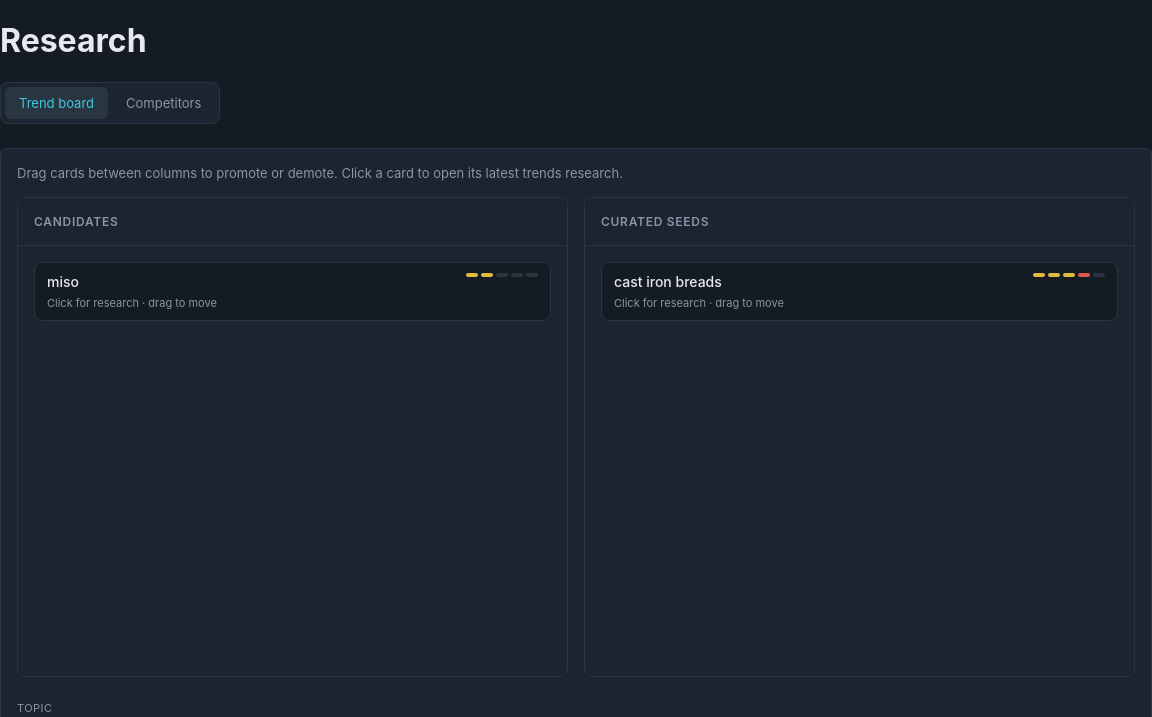
Scenario: Research › shows a not-implemented toast when Research is clicked on a curated topic
Click the button "cast iron breads Click for research · drag to move" at coordinates (668, 281), box [601,262,1118,321]
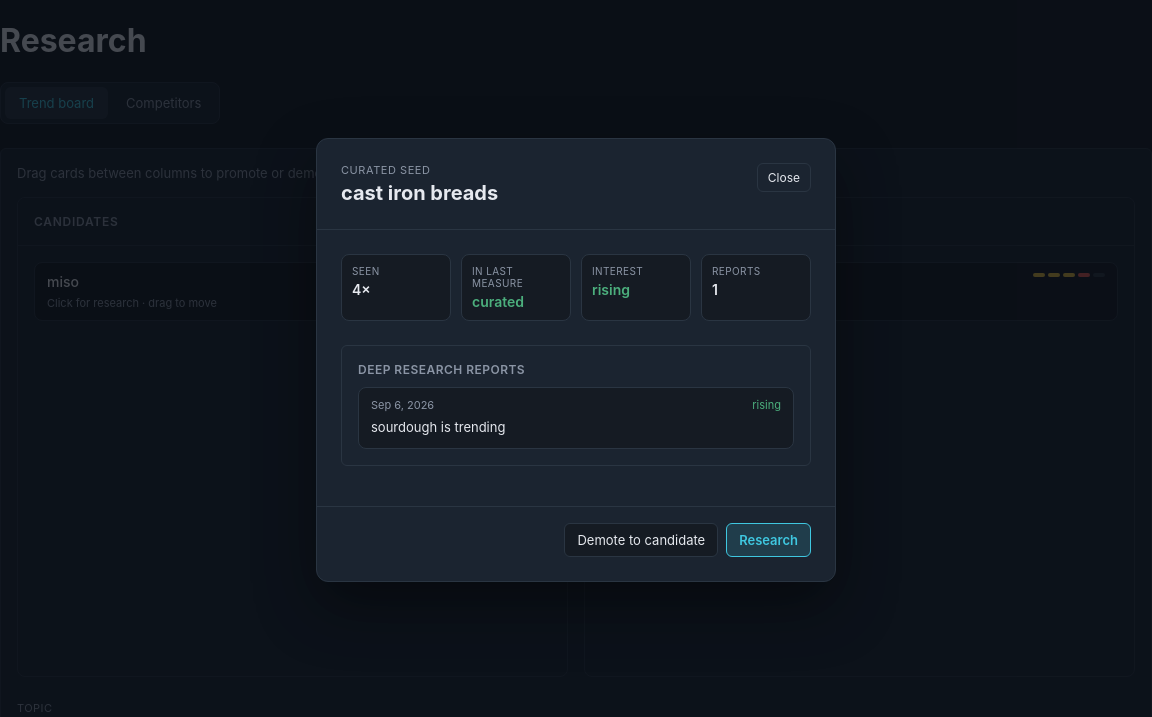
Click the button "Research" at coordinates (769, 540), box [726,523,811,557]
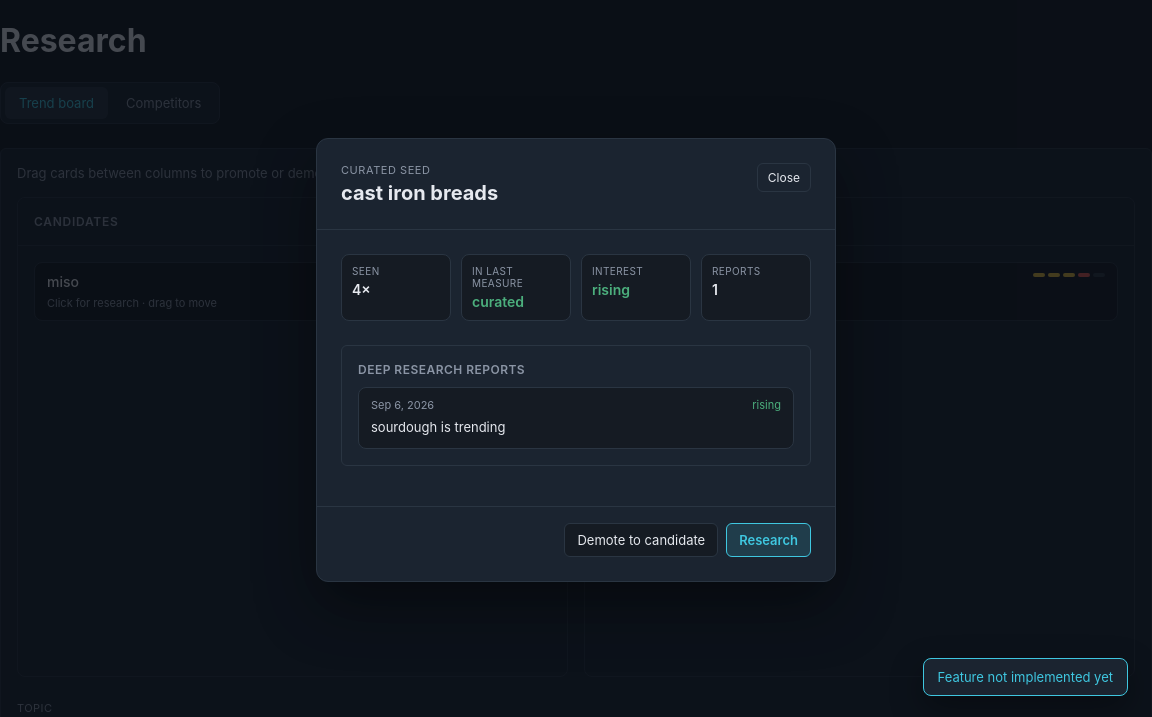
Now the message reads "Feature not implemented yet", box [938,669,1113,685]
